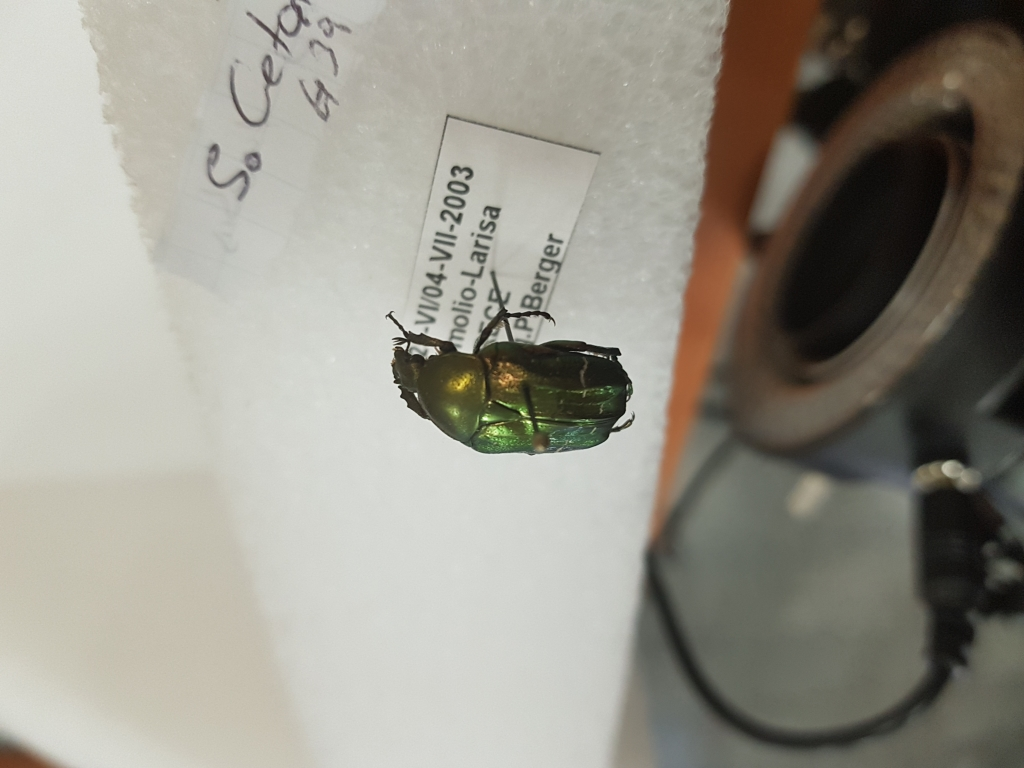Cetonia_aurata: (379, 312, 645, 455)
